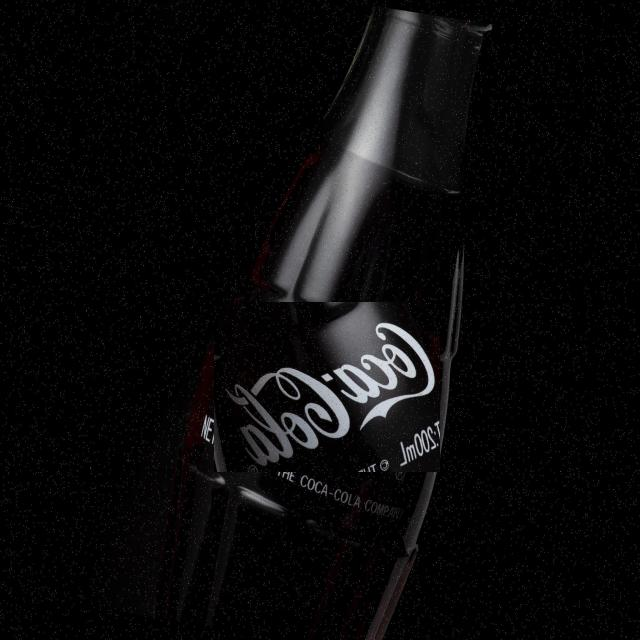coca-cola: (214, 302, 440, 472)
